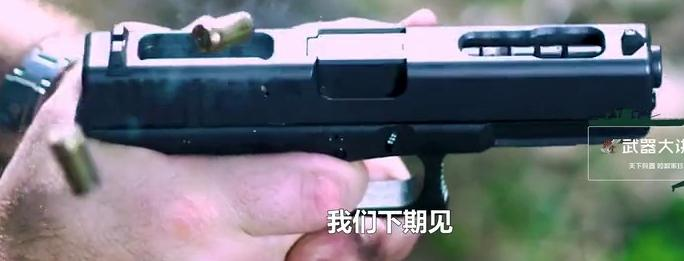gun: (1, 1, 684, 261)
